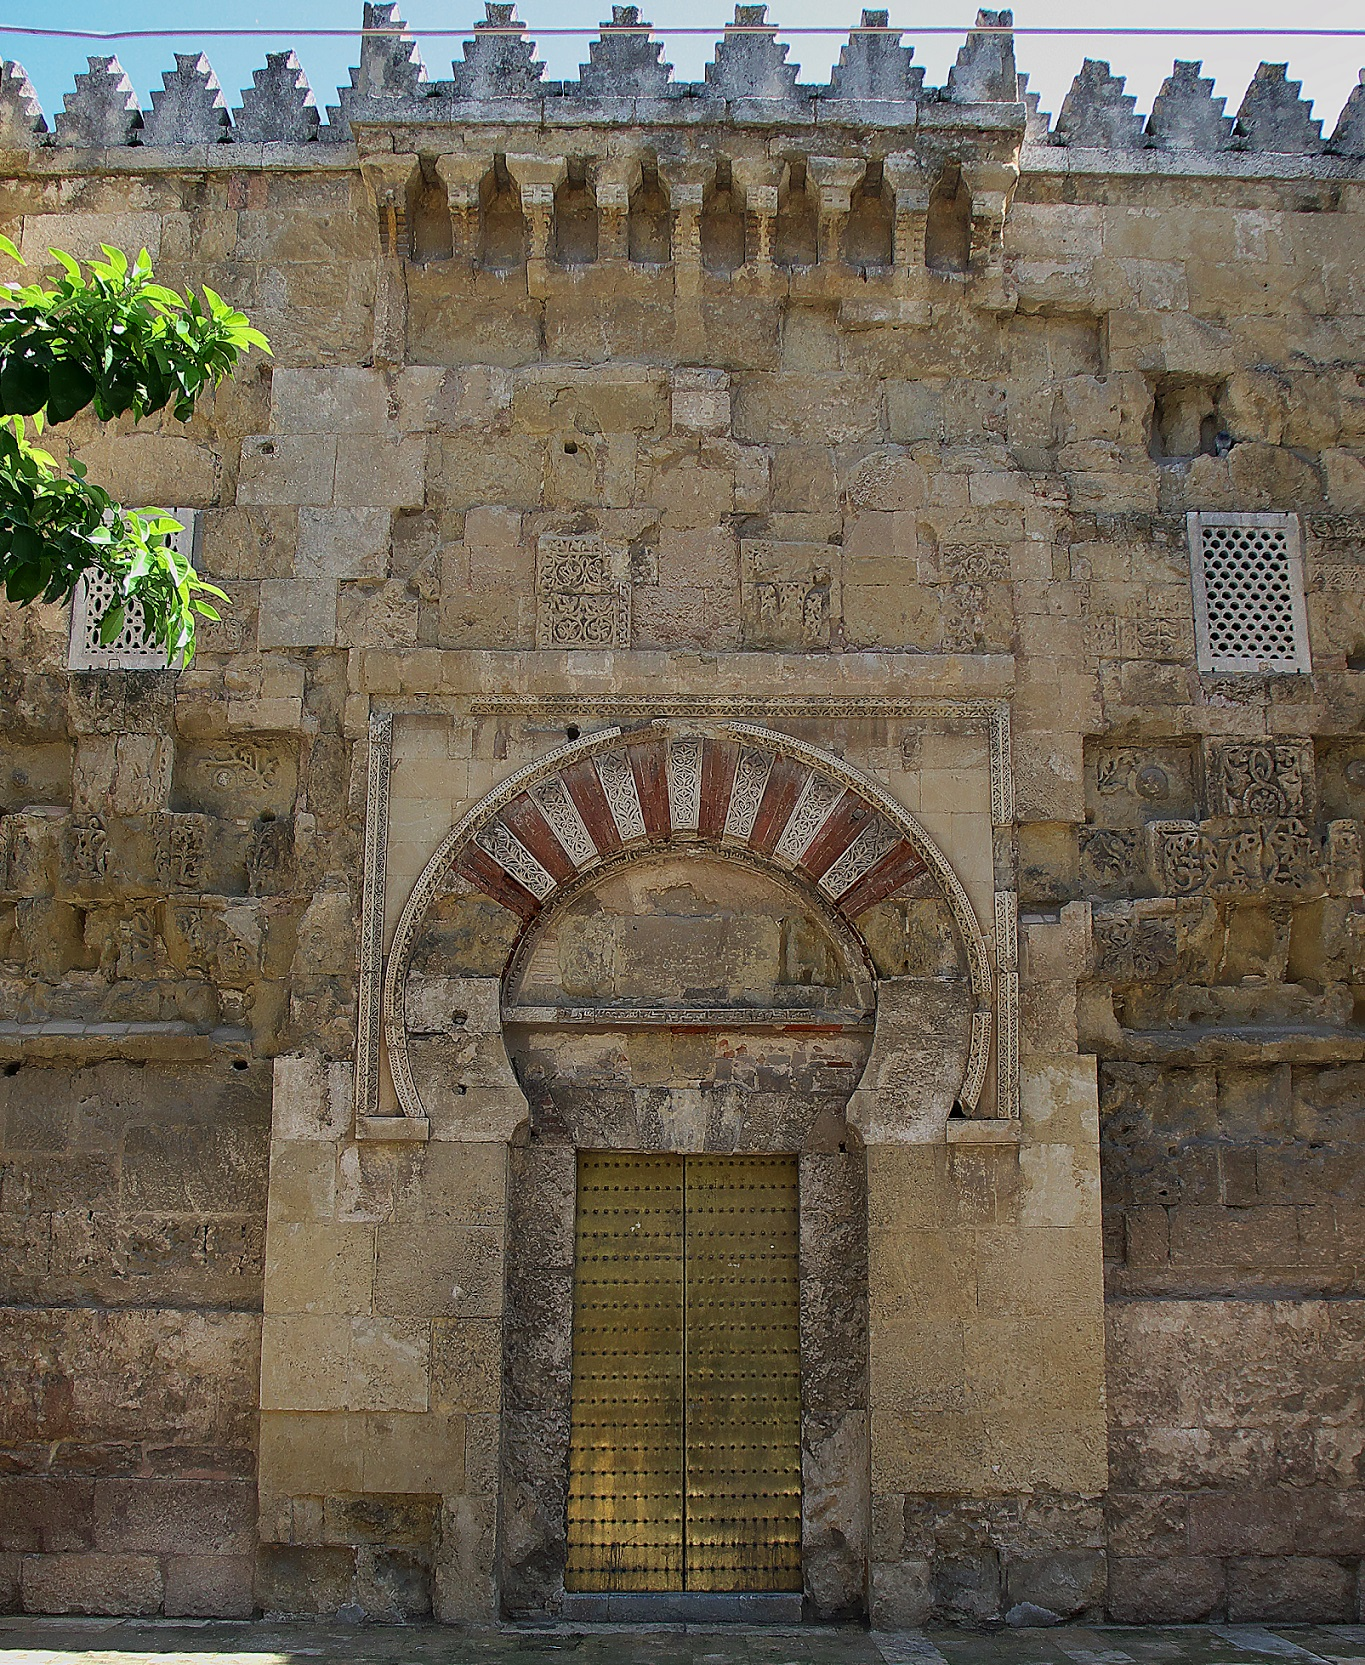arco-herradura: (483, 813, 893, 1174)
